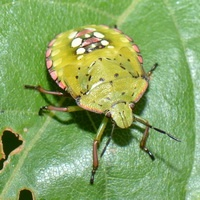insect: (24, 25, 180, 183)
